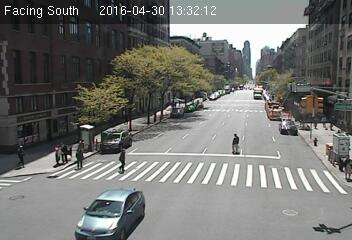neg: (22, 39, 44, 68), (273, 19, 289, 41), (318, 216, 332, 235), (262, 99, 276, 117), (224, 12, 238, 30), (311, 37, 324, 54), (95, 92, 107, 109), (161, 12, 173, 29), (237, 98, 249, 114), (131, 38, 143, 54), (177, 110, 188, 125), (70, 78, 81, 93), (262, 190, 273, 205), (184, 151, 194, 165), (188, 63, 198, 76), (72, 178, 82, 191), (164, 199, 173, 212), (127, 93, 136, 105), (264, 59, 273, 71), (289, 66, 298, 78), (222, 64, 231, 76), (108, 197, 117, 209), (202, 107, 211, 118), (114, 59, 121, 69), (148, 104, 155, 113), (163, 128, 168, 135)
pos: (222, 129, 245, 160), (110, 144, 133, 175), (11, 143, 30, 168), (337, 152, 351, 183), (69, 146, 85, 168), (56, 140, 72, 162), (325, 112, 341, 134), (47, 144, 62, 164), (317, 112, 331, 131), (75, 138, 89, 156), (310, 113, 320, 127)
